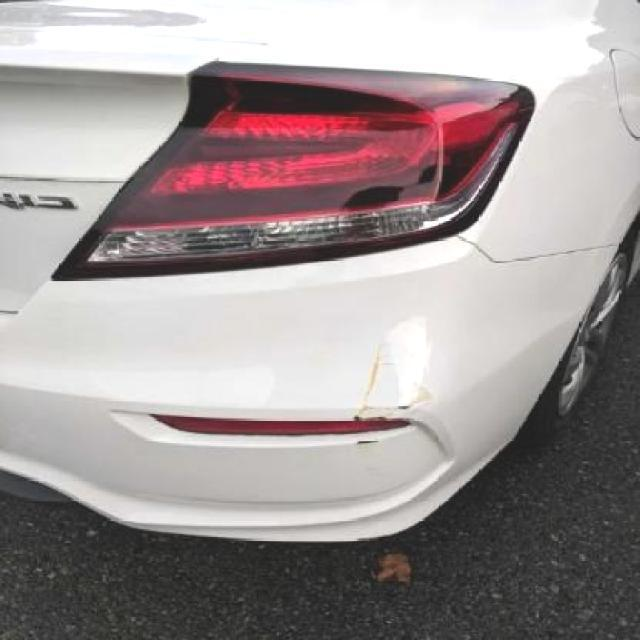minor: (357, 323, 428, 415)
